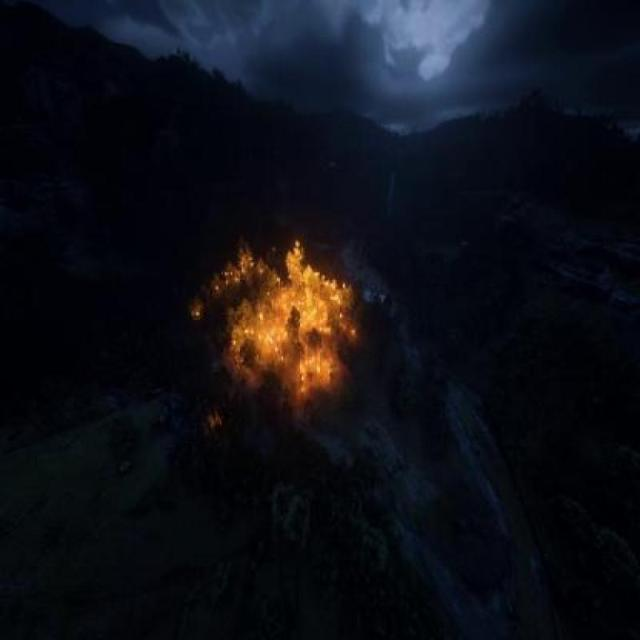Fire: (178, 238, 368, 414)
